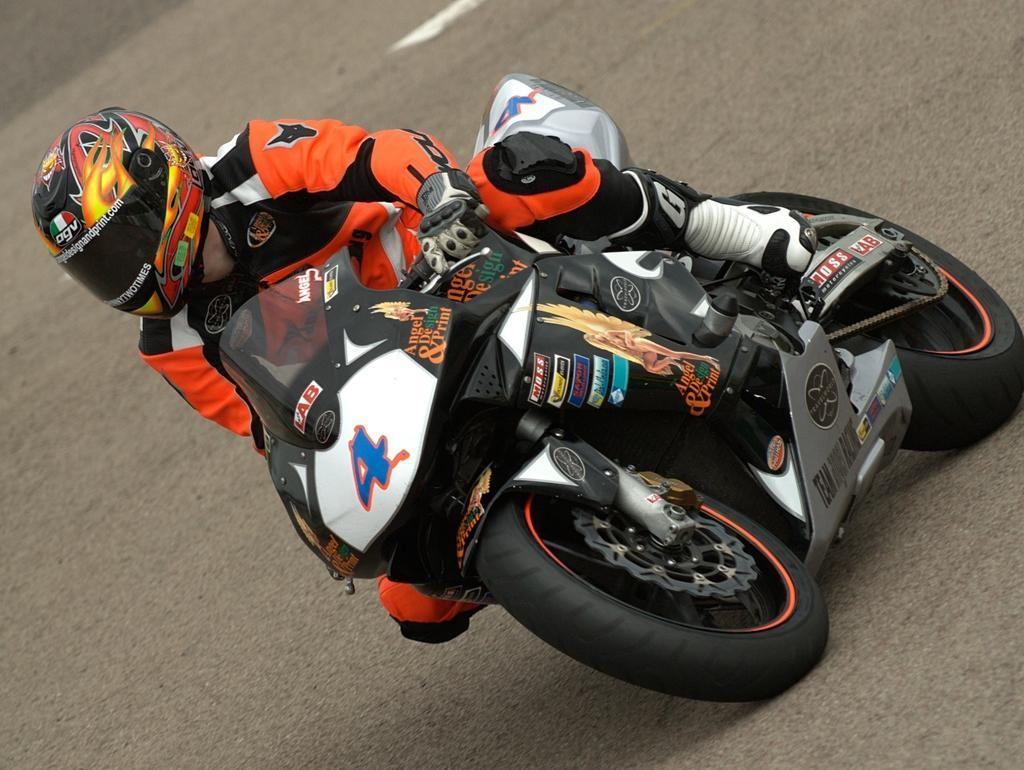helmet: (31, 104, 213, 321)
